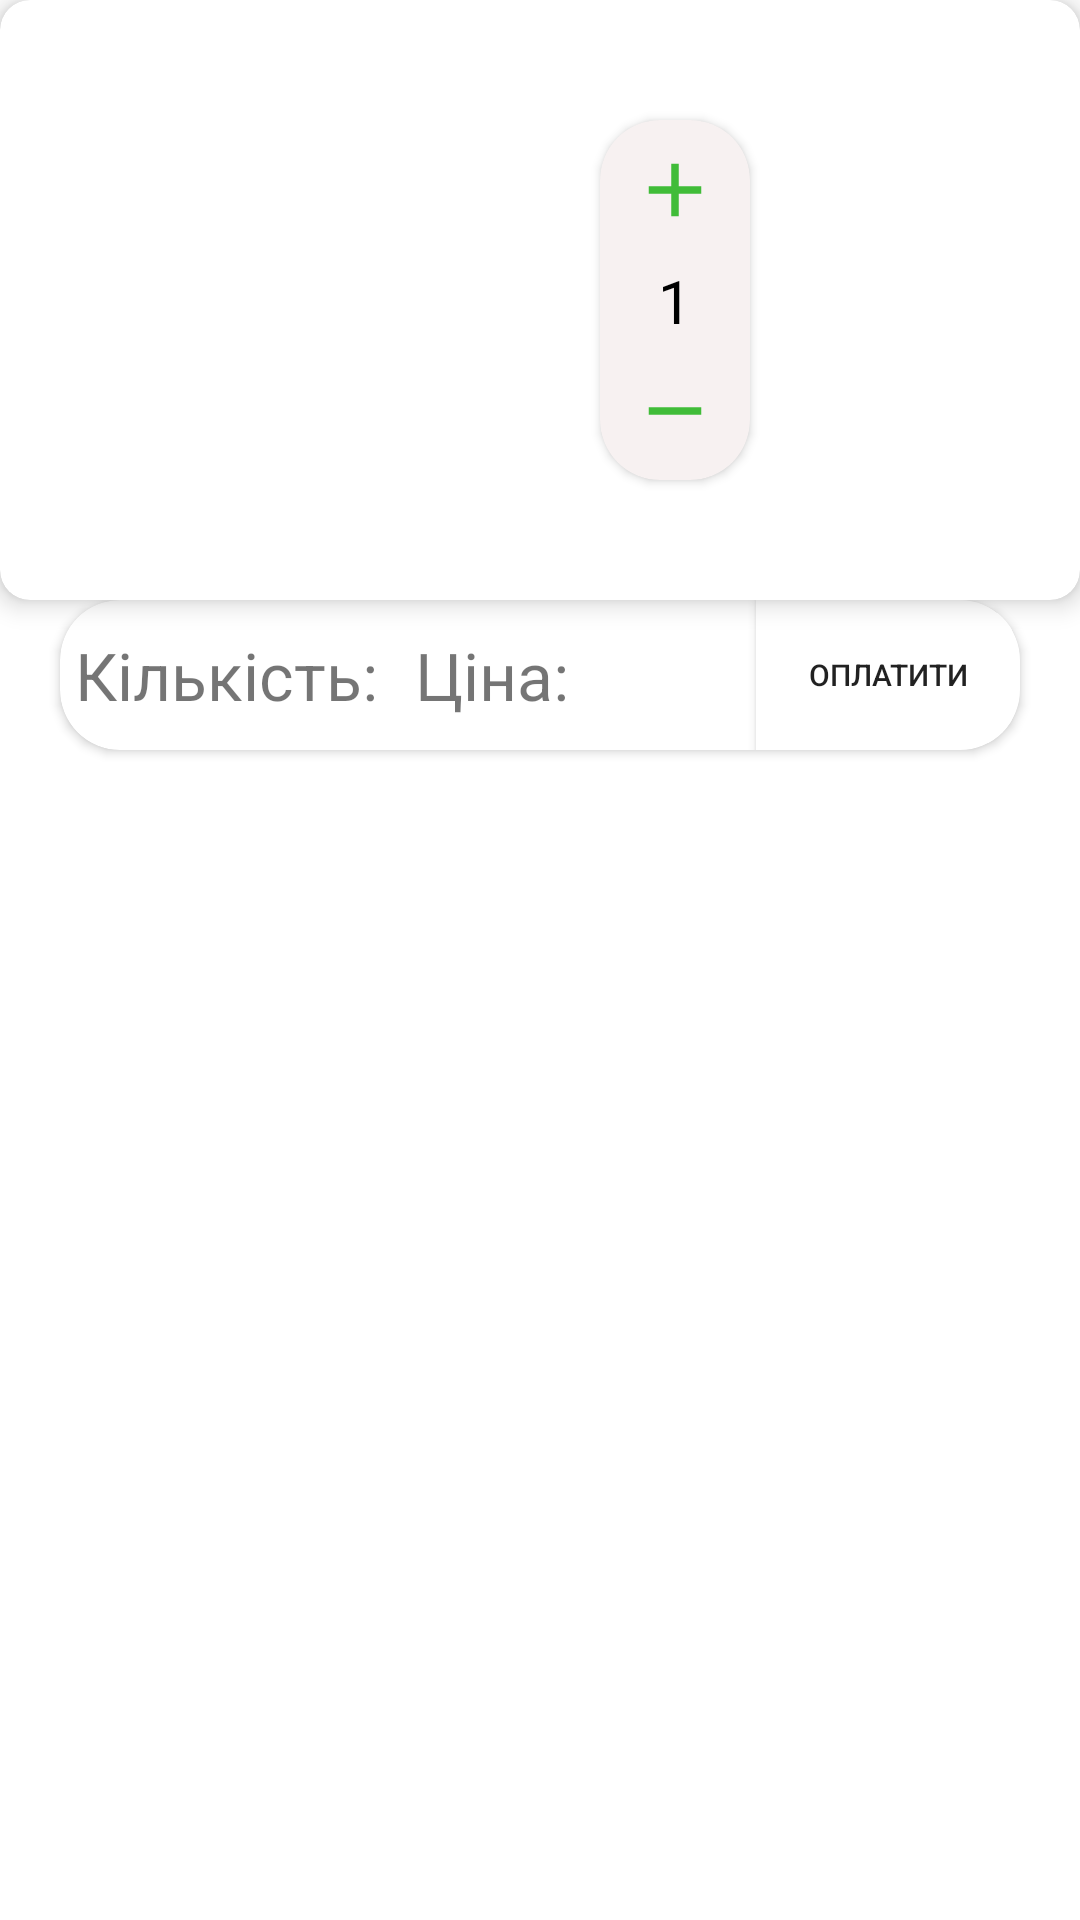

Point at icon controls on the screen. Image size 1080×1920, points as point (x, y).
plus price: point (675, 190)
